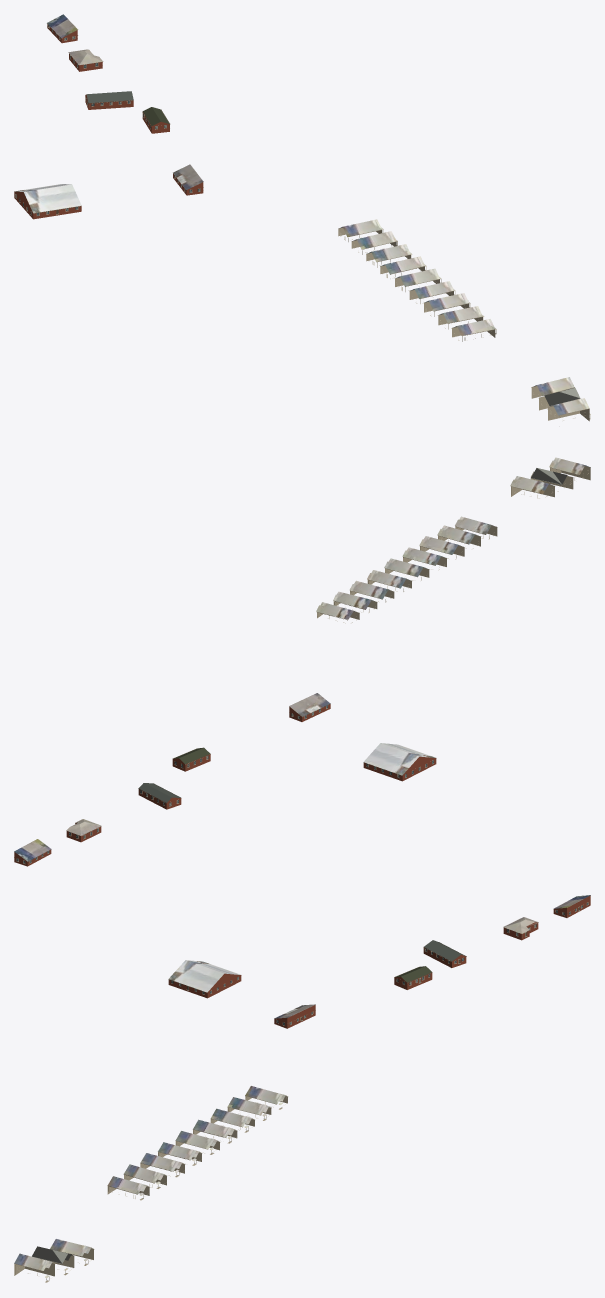
The picture shows the model from 3 angles, top to bottom: view 1: azimuth 30°, elevation 25°; view 2: azimuth 150°, elevation 25°; view 3: azimuth 330°, elevation 25°; orthographic projection. The views are drawn at different scales.
Visible parts, largest first — view 1: -2_9_607956523_0, -2_9_-20588789186_26, -2_9_607956526_2; view 2: -2_9_607956523_0, -2_9_-20588789186_26, -2_9_607956526_2; view 3: -2_9_607956523_0, -2_9_-20588789186_26, -2_9_607956526_2.
Boxes of the visible parts, x1=… form: -2_9_607956523_0: x1=14, y1=14, x2=590, y2=420; -2_9_-20588789186_26: x1=338, y1=227, x2=589, y2=421; -2_9_607956526_2: x1=86, y1=91, x2=580, y2=406; -2_9_607956523_0: x1=14, y1=457, x2=590, y2=866; -2_9_-20588789186_26: x1=317, y1=466, x2=590, y2=619; -2_9_607956526_2: x1=138, y1=468, x2=572, y2=802; -2_9_607956523_0: x1=14, y1=895, x2=590, y2=1282; -2_9_-20588789186_26: x1=14, y1=1096, x2=287, y2=1276; -2_9_607956526_2: x1=32, y1=940, x2=464, y2=1263.
Size of the model in its own units: 127 by 19.01 by 514.
13 materials, 1 textured.
